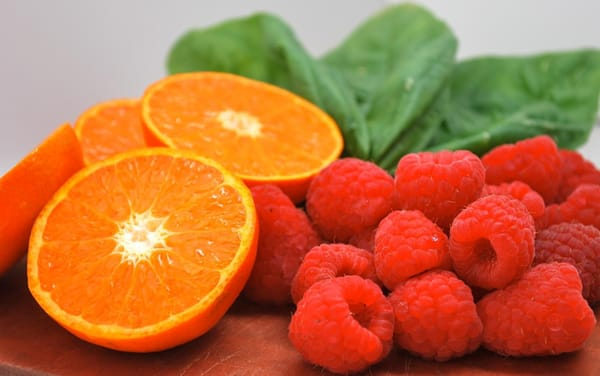taco: (27, 147, 259, 354), (140, 71, 346, 202), (0, 122, 85, 280), (75, 97, 150, 168)
